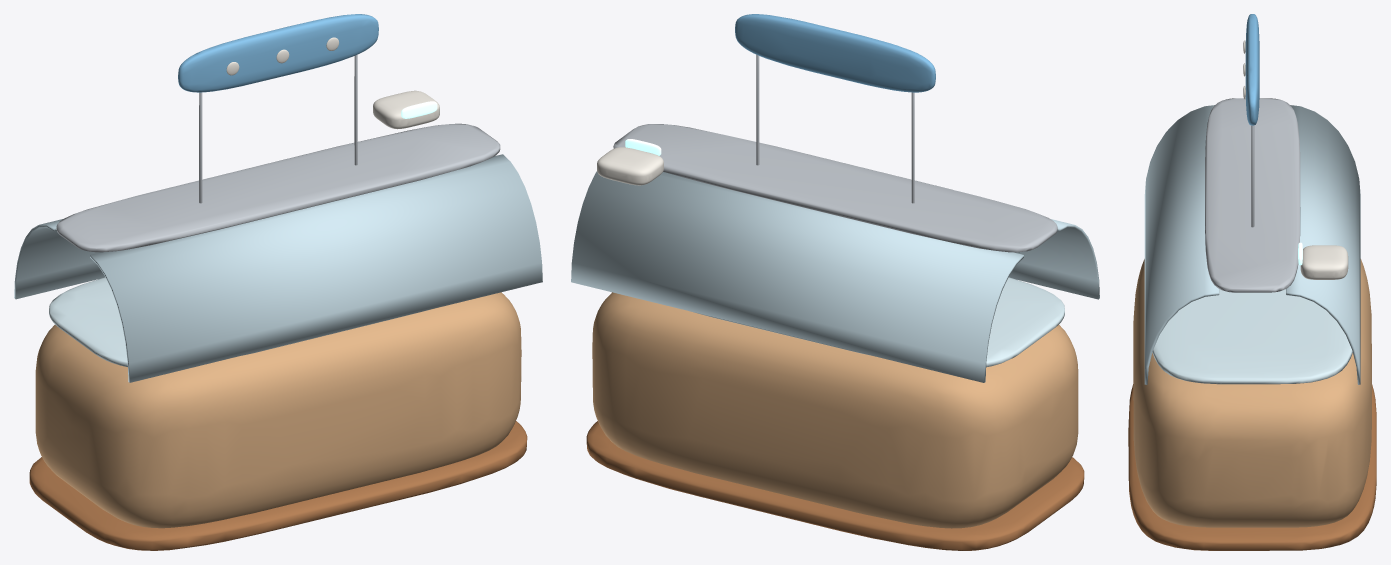
Rendered from vitrina_vitrina_3.glb.
The picture shows the model from 3 angles, left to right: view 1: azimuth 30°, elevation 25°; view 2: azimuth 150°, elevation 25°; view 3: azimuth 270°, elevation 25°; orthographic projection. The views are drawn at different scales.
Visible parts, largest first — view 1: base.006, vidrio frente.001, techo.004, zocalo.001, letrero.011, bandeja.004, vidrio atras, balanza; view 2: base.006, vidrio atras, techo.004, zocalo.001, letrero.011, bandeja.004, vidrio frente.001, balanza; view 3: base.006, techo.004, bandeja.004, vidrio frente.001, vidrio atras, zocalo.001, balanza, letrero.011, cadena.001.
Part boxes in pixels (<box>): base.006: <box>35,292,521,528</box>; vidrio frente.001: <box>90,154,542,382</box>; techo.004: <box>56,123,500,252</box>; zocalo.001: <box>29,421,527,550</box>; letrero.011: <box>178,14,378,92</box>; bandeja.004: <box>49,277,425,367</box>; vidrio atras: <box>14,219,104,299</box>; balanza: <box>373,90,439,129</box>; base.006: <box>592,292,1078,528</box>; vidrio atras: <box>571,171,1023,382</box>; techo.004: <box>613,124,1057,252</box>; zocalo.001: <box>586,421,1084,550</box>; letrero.011: <box>735,14,935,92</box>; bandeja.004: <box>694,277,1064,367</box>; vidrio frente.001: <box>1009,219,1099,299</box>; balanza: <box>597,147,663,185</box>; base.006: <box>1133,259,1371,527</box>; techo.004: <box>1205,98,1300,292</box>; bandeja.004: <box>1152,289,1352,384</box>; vidrio frente.001: <box>1144,105,1219,384</box>; vidrio atras: <box>1286,105,1360,384</box>; zocalo.001: <box>1128,384,1376,550</box>; balanza: <box>1300,245,1348,279</box>; letrero.011: <box>1245,14,1259,125</box>; cadena.001: <box>1251,125,1254,227</box>.
Bounding box in the file's own units: 1.94 × 1.9 × 1.04.
